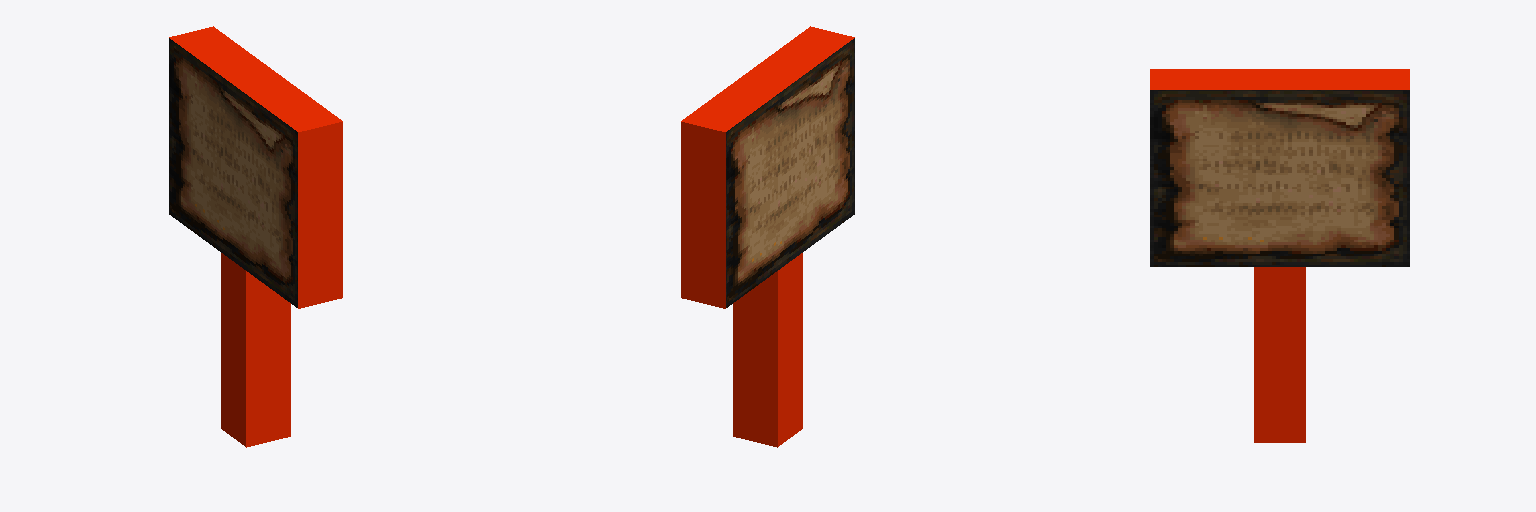
3 renders of one model, left to right at view 1: azimuth 30°, elevation 25°; view 2: azimuth 150°, elevation 25°; view 3: azimuth 270°, elevation 25°, orthographic.
Parts seen in each view (by area): view 1: usermarker; view 2: usermarker; view 3: usermarker.
Part boxes in pixels (x1,y1,x2,y2): usermarker: (169,26,342,447); usermarker: (681,26,854,447); usermarker: (1150,69,1409,442).
Size of the model in its own units: 0.2 by 1.5 by 1.
2 materials, 1 textured.